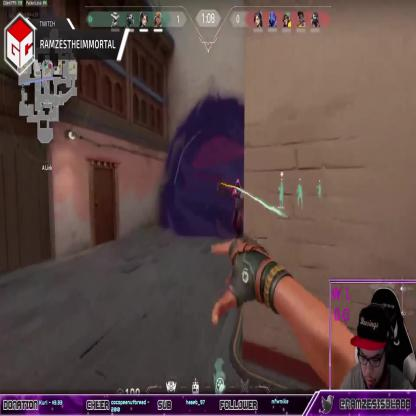enemy: (230, 177, 245, 241)
enemy_head: (235, 180, 240, 192)
